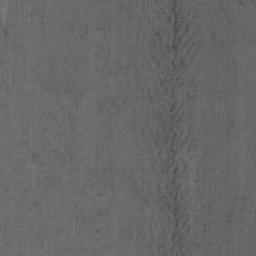Water spot: (145, 0, 204, 256)
